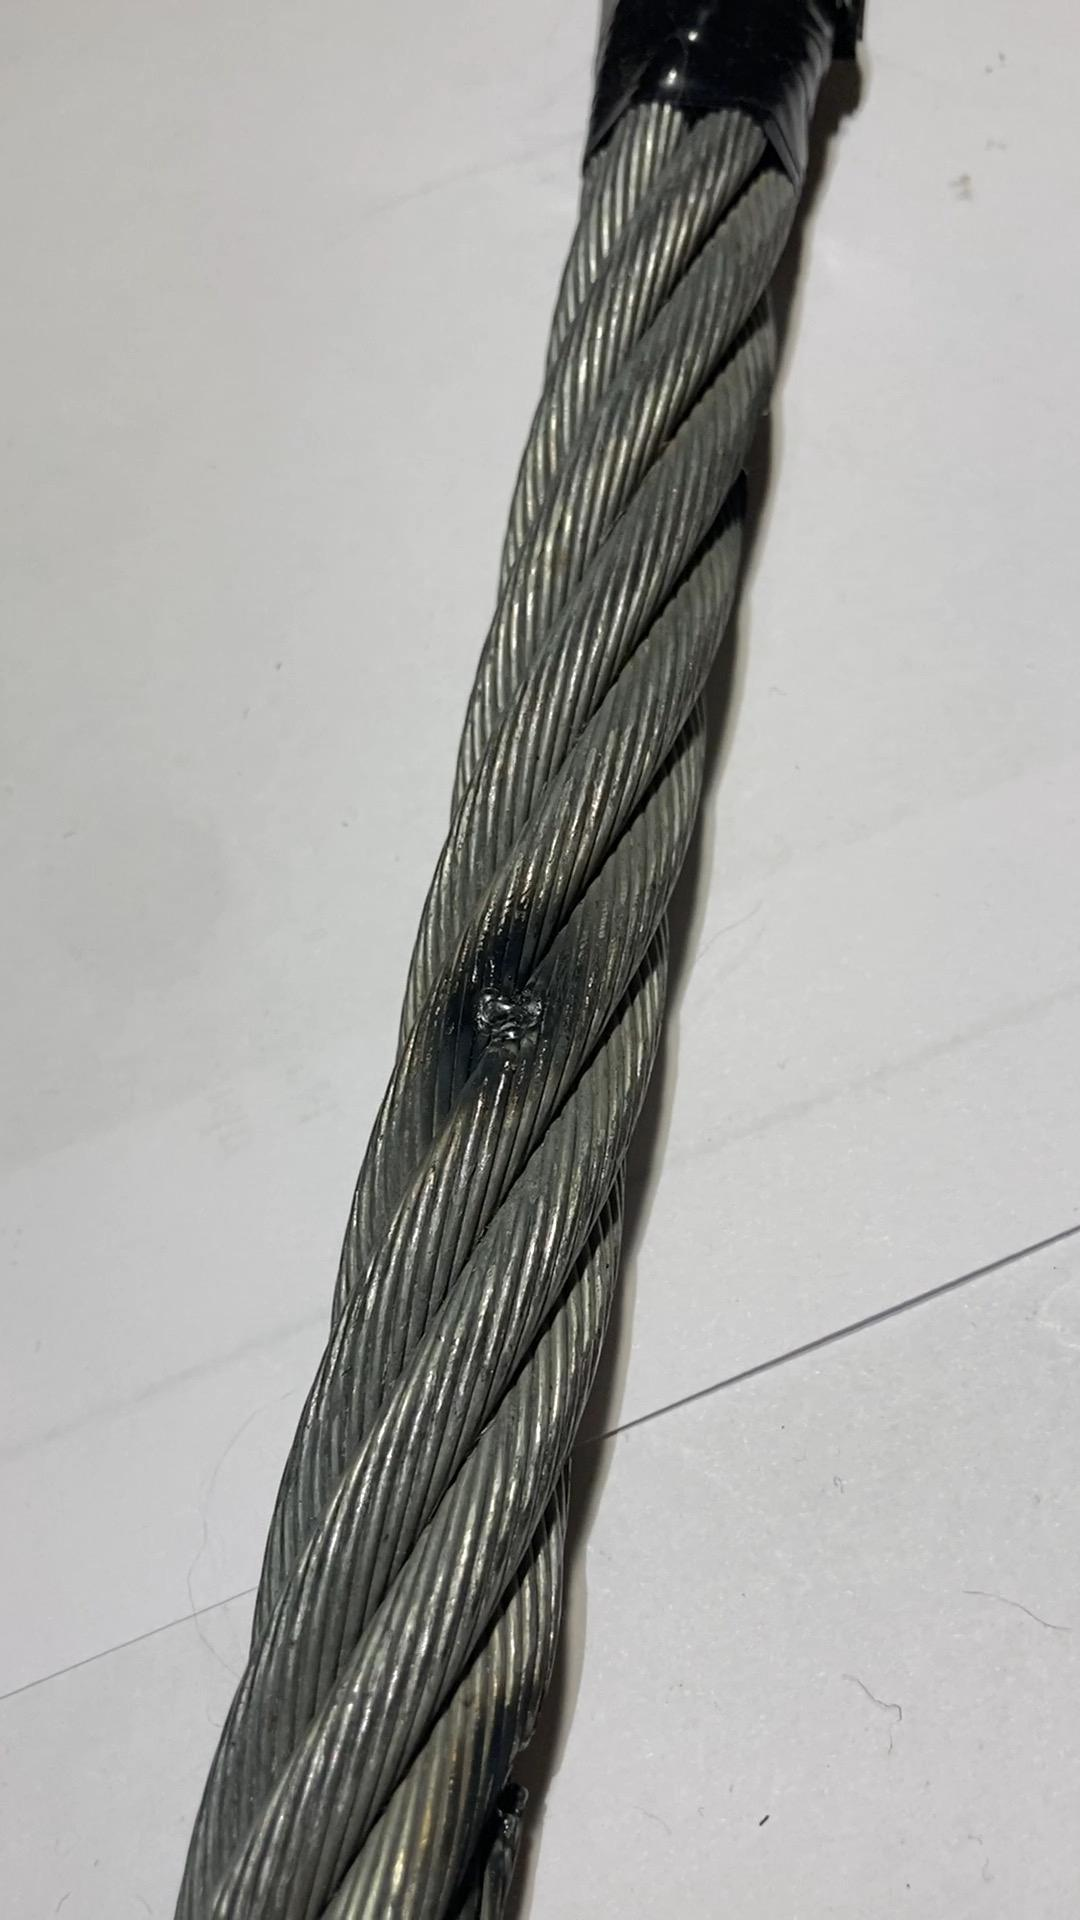thunderbolt: (436, 924, 611, 1080)
